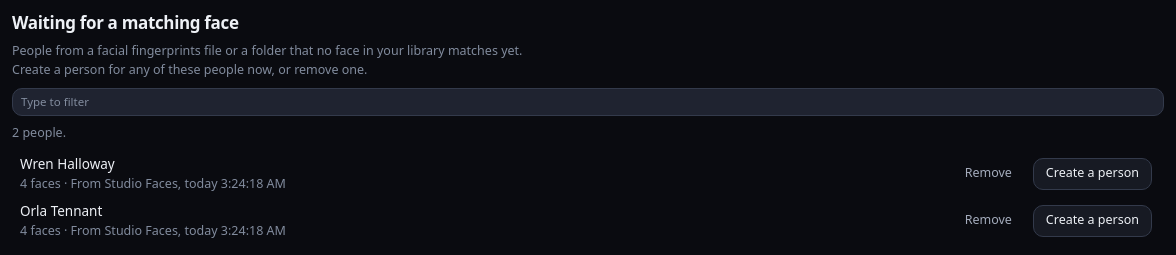
Scenario: narrows the list as the box is typed into, by any part of the name, and says how many
In the search field with placeholder "Type to filter": x=588, y=102 [12,88,1164,116], type "TENN"
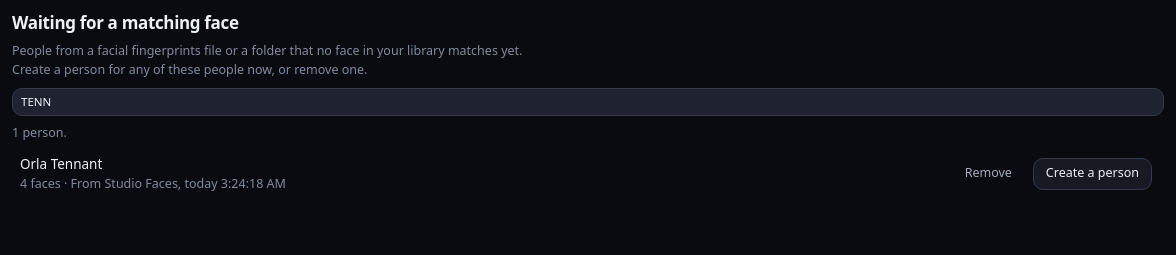
Expected: the text "Orla Tennant" is shown, [20,155,102,173]
Now the text "Wren Halloway" is gone
Now the text "1 person." is shown, box [12,124,67,141]
Replace the text in the search field named "Search people waiting for a matching face" with "Quill": x=588, y=102 [12,88,1164,116]
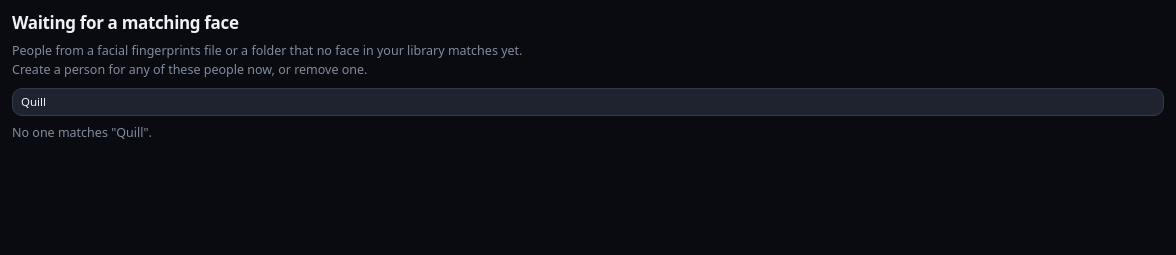
Now the text "No one matches \"Quill\"." is shown, box [12,124,152,142]
